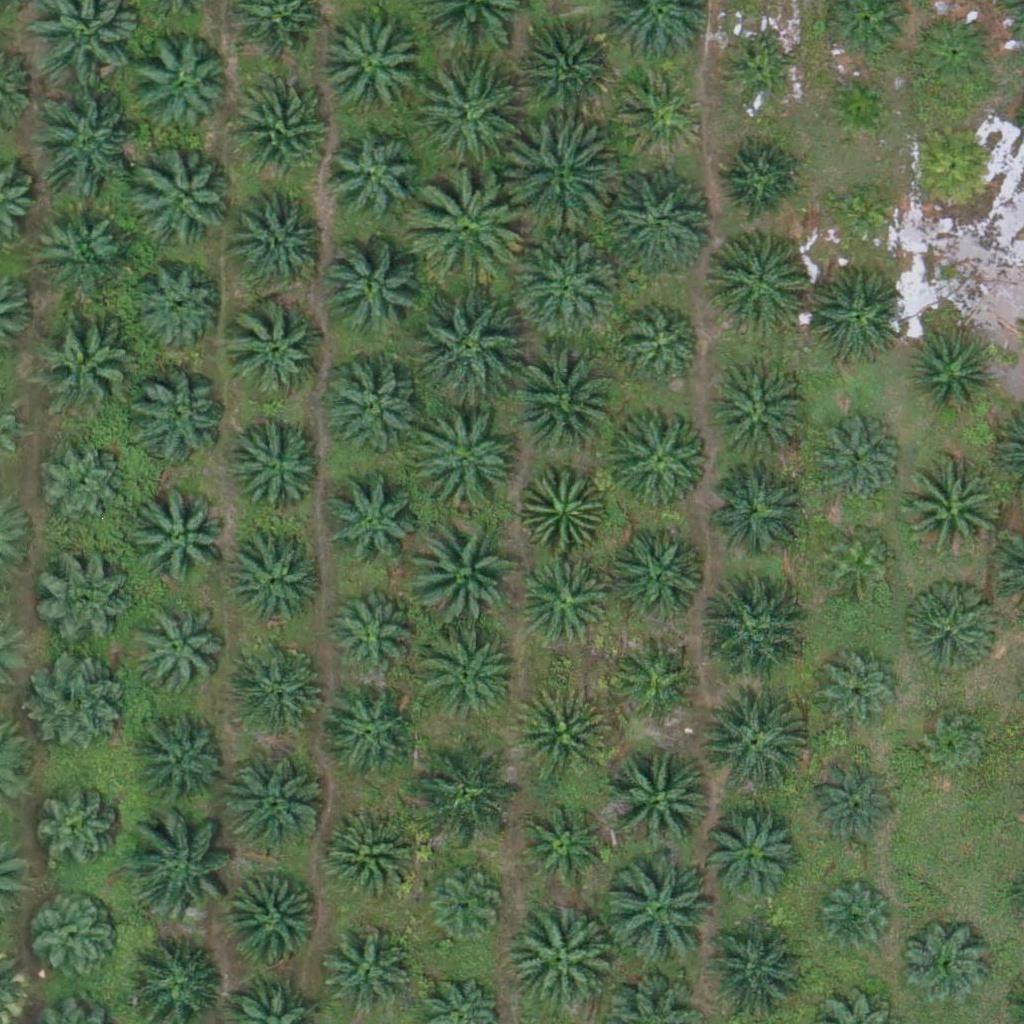Kelapa_Sawit: (408, 59, 521, 173), (602, 859, 715, 972), (128, 815, 241, 928), (413, 731, 526, 844), (413, 406, 526, 519), (412, 290, 525, 403), (513, 227, 625, 341), (608, 744, 720, 858), (502, 903, 614, 1016), (26, 86, 138, 199), (412, 620, 524, 733), (407, 510, 519, 623), (410, 173, 522, 286), (500, 121, 612, 234), (505, 342, 617, 455), (603, 162, 715, 275), (694, 573, 806, 686), (695, 687, 807, 800), (702, 809, 802, 910), (316, 805, 416, 906), (32, 198, 132, 299), (35, 309, 135, 410), (34, 547, 134, 648), (32, 651, 132, 752), (129, 32, 229, 133), (135, 486, 235, 587), (128, 601, 228, 702), (132, 710, 232, 811), (226, 753, 326, 854), (225, 529, 325, 630), (227, 300, 327, 401), (228, 76, 328, 177), (325, 127, 425, 228), (323, 237, 423, 338), (318, 473, 418, 574), (321, 685, 421, 786), (511, 684, 611, 785), (610, 528, 710, 629), (609, 404, 709, 505), (711, 368, 811, 469), (709, 459, 809, 560), (802, 266, 902, 367), (901, 459, 1001, 560), (223, 872, 323, 972), (134, 151, 234, 251), (125, 368, 225, 468), (233, 640, 333, 740), (228, 416, 328, 516), (235, 187, 335, 287), (319, 18, 419, 118), (322, 355, 422, 455), (515, 22, 615, 122), (708, 230, 808, 330), (902, 578, 1002, 678), (909, 120, 997, 209), (424, 862, 512, 950), (326, 930, 414, 1018), (909, 7, 997, 95), (39, 441, 127, 529), (522, 554, 610, 642), (518, 805, 606, 893), (616, 629, 704, 717), (809, 762, 897, 850), (816, 644, 904, 732), (902, 920, 989, 1008), (34, 790, 121, 878), (31, 899, 118, 987), (617, 70, 704, 158), (134, 262, 221, 350), (328, 587, 415, 675), (520, 462, 607, 550), (621, 304, 708, 392), (716, 134, 803, 222), (814, 411, 901, 499), (908, 331, 995, 419), (817, 883, 892, 959), (820, 69, 895, 145), (824, 177, 899, 253), (726, 40, 801, 115), (821, 525, 896, 600), (919, 709, 994, 784)
